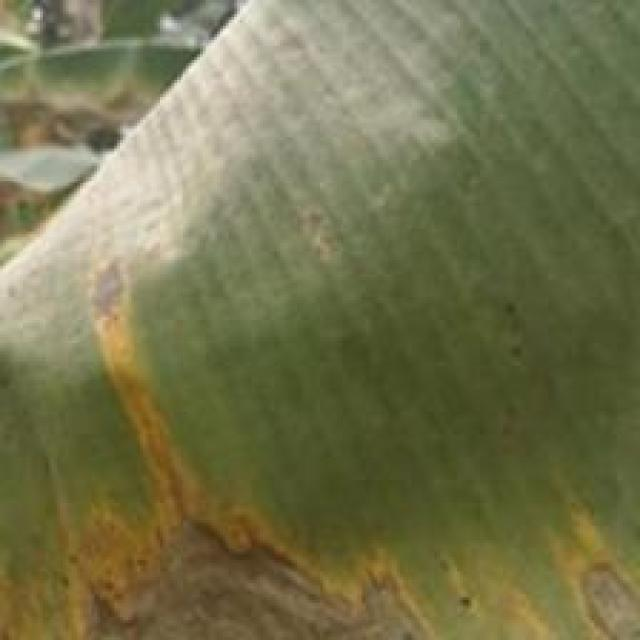Downey_mildrew: (0, 231, 434, 639), (452, 307, 640, 640)
